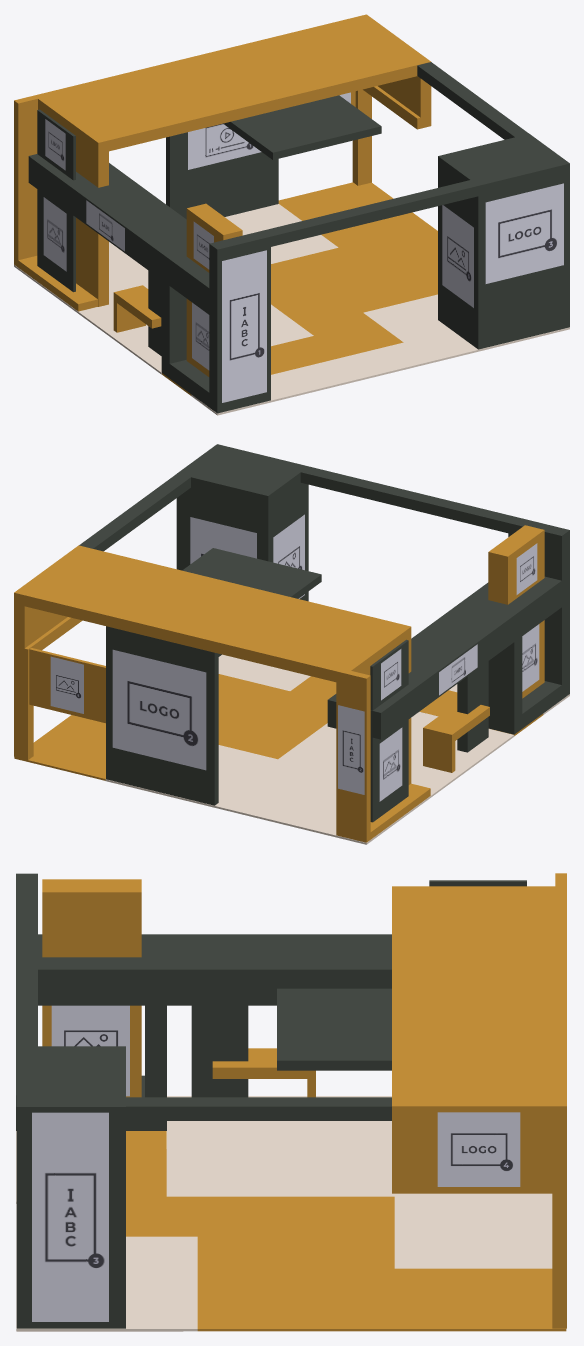
The model's file is stant7.gltf.
3 renders of one model, top to bottom at view 1: azimuth 30°, elevation 25°; view 2: azimuth 150°, elevation 25°; view 3: azimuth 270°, elevation 25°, orthographic. The views are drawn at different scales.
Visible parts, largest first — view 1: modrenk1, modrenk2, modzemin, modlogo3, moddikyazi1, moddikgorsel5, modvideo1, moddikgorsel1, moddikgorsel2, modyazi1, modlogo1, modlogo5; view 2: modrenk1, modrenk2, modzemin, modlogo2, moddikyazi2, moddikgorsel3, moddikgorsel6, moddikgorsel1, moddikgorsel5, moddikgorsel2, modyazi1, modlogo5 (+1 smaller); view 3: modrenk1, modrenk2, modzemin, moddikyazi3, modlogo4, moddikgorsel4.
Part boxes in pixels (left/top/right/bottom): modrenk1: left=14, top=14, right=437, bottom=395; modrenk2: left=28, top=62, right=569, bottom=413; modzemin: left=14, top=204, right=569, bottom=415; modlogo3: left=485, top=183, right=563, bottom=283; moddikyazi1: left=222, top=250, right=266, bottom=402; moddikgorsel5: left=442, top=205, right=473, bottom=307; modvideo1: left=188, top=123, right=261, bottom=169; moddikgorsel1: left=43, top=197, right=66, bottom=271; moddikgorsel2: left=192, top=302, right=209, bottom=370; modyazi1: left=86, top=200, right=124, bottom=251; modlogo1: left=45, top=119, right=65, bottom=170; modlogo5: left=193, top=221, right=213, bottom=269; modrenk1: left=14, top=525, right=544, bottom=842; modrenk2: left=79, top=444, right=569, bottom=822; modzemin: left=105, top=654, right=569, bottom=844; modlogo2: left=112, top=649, right=206, bottom=770; moddikyazi2: left=338, top=705, right=364, bottom=794; moddikgorsel3: left=190, top=517, right=256, bottom=563; moddikgorsel6: left=50, top=656, right=83, bottom=713; moddikgorsel1: left=379, top=727, right=402, bottom=801; moddikgorsel5: left=273, top=514, right=304, bottom=598; moddikgorsel2: left=522, top=624, right=539, bottom=691; modyazi1: left=439, top=644, right=477, bottom=695; modlogo5: left=516, top=543, right=537, bottom=594; modrenk1: left=42, top=873, right=566, bottom=1331; modrenk2: left=16, top=873, right=526, bottom=1328; modzemin: left=16, top=1096, right=552, bottom=1331; moddikyazi3: left=32, top=1112, right=108, bottom=1321; modlogo4: left=437, top=1112, right=520, bottom=1186; moddikgorsel4: left=51, top=1005, right=129, bottom=1096.
Size of the model in its own units: 1 by 0.4595 by 1.01.
23 materials, 20 textured.
